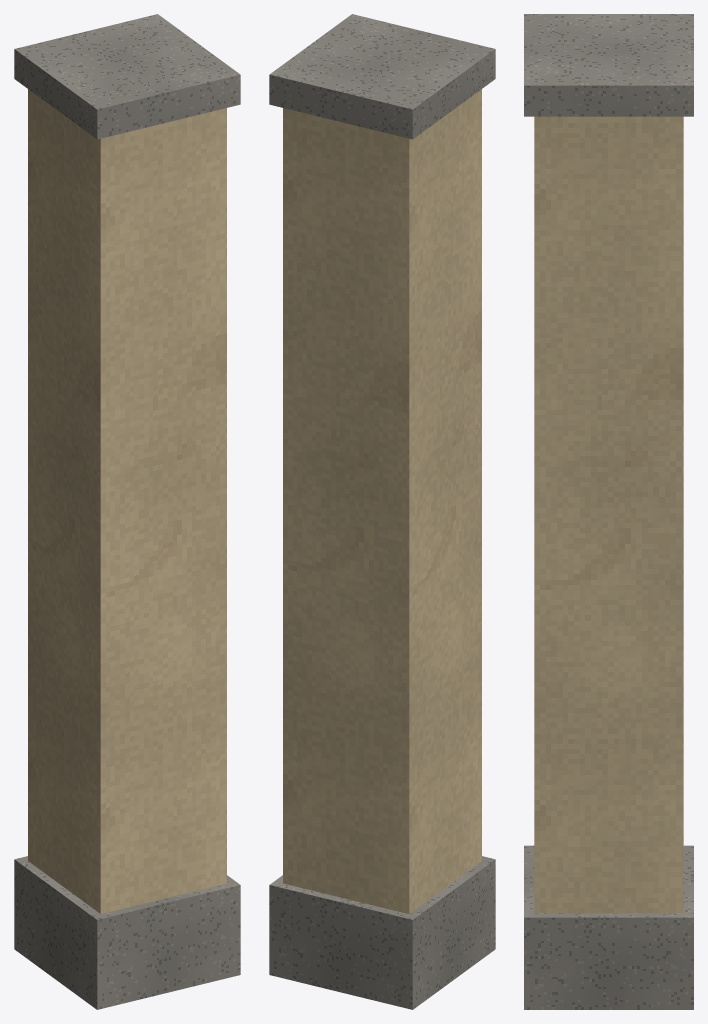
Rendered from pillar.glb.
3 views of the same model, side by side, from view 1: azimuth 30°, elevation 25°; view 2: azimuth 150°, elevation 25°; view 3: azimuth 270°, elevation 25° (orthographic). The views are drawn at different scales.
Visible parts, largest first — view 1: pillar; view 2: pillar; view 3: pillar.
Boxes of the visible parts, bbox=[...] form: pillar: bbox=[14, 14, 240, 1009]; pillar: bbox=[269, 14, 495, 1009]; pillar: bbox=[524, 14, 693, 1009].
Size of the model in its own units: 0.5 by 3 by 0.5.
1 material, 1 textured.
